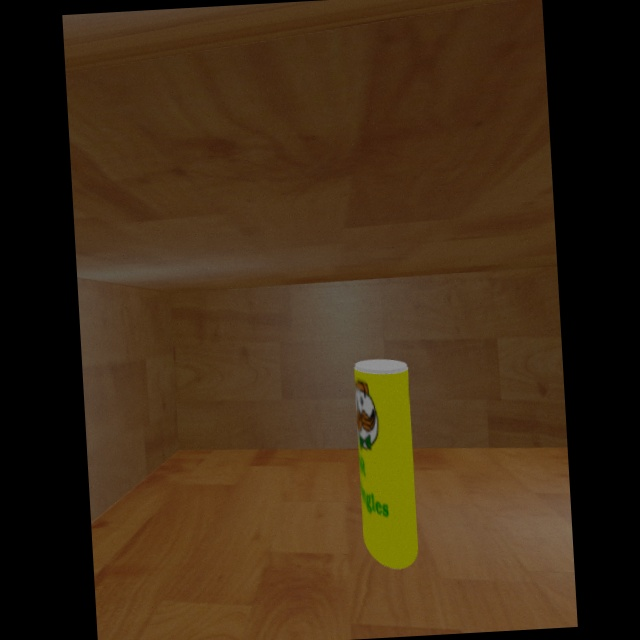chipsdose_gelb: (354, 358, 419, 571)
